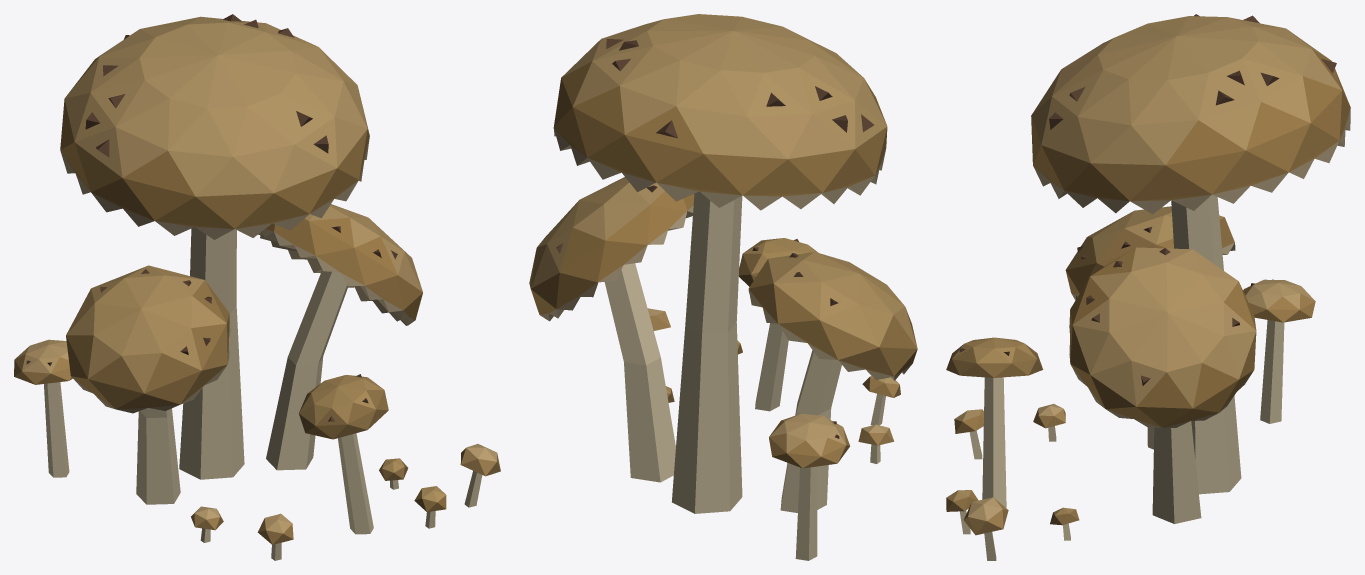
Rendered from giant-mushroom-cluster-868de6.glb.
3 renders of one model, left to right at view 1: azimuth 30°, elevation 25°; view 2: azimuth 150°, elevation 25°; view 3: azimuth 270°, elevation 25°, orthographic. The views are drawn at different scales.
Parts seen in each view (by area): view 1: mushroom-cluster; view 2: mushroom-cluster; view 3: mushroom-cluster.
Part boxes in pixels (box(x1,y1,x2,y2)): mushroom-cluster: box(14, 14, 500, 560); mushroom-cluster: box(529, 14, 917, 560); mushroom-cluster: box(946, 14, 1350, 560).
Size of the model in its own units: 1 by 1.2 by 1.
